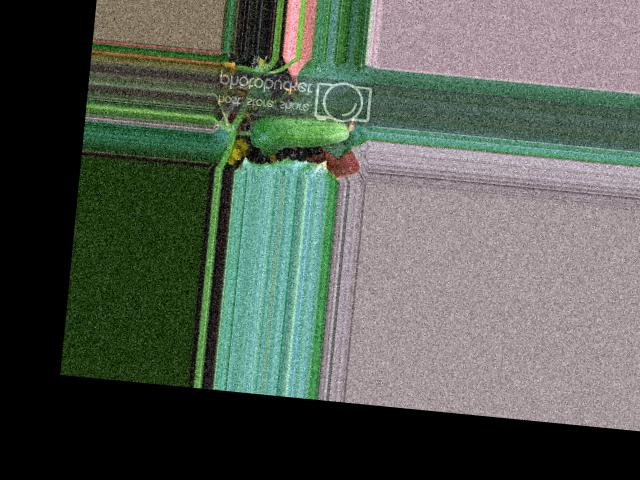cucumber: (250, 108, 352, 157)
